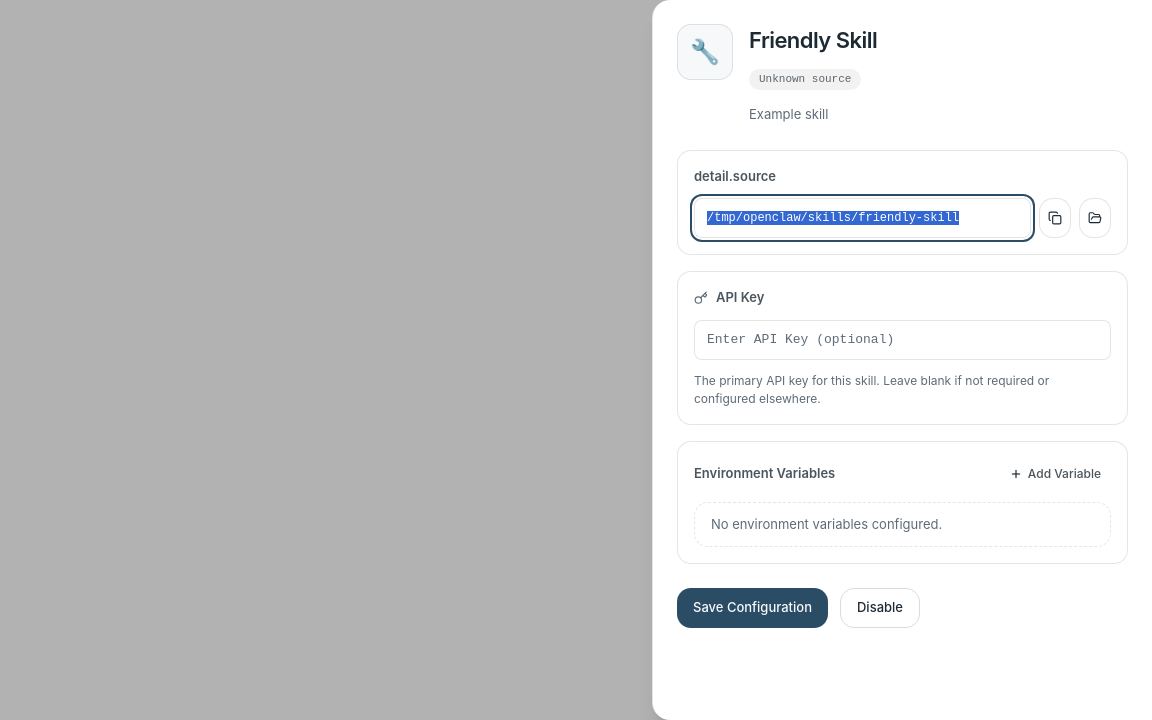
Scenario: SkillDetailDialog uninstall › blocks saving when an added environment variable row is left blank
Step 1. Click the button "Add Variable" → [1055, 474], box [1000,458,1111,490]
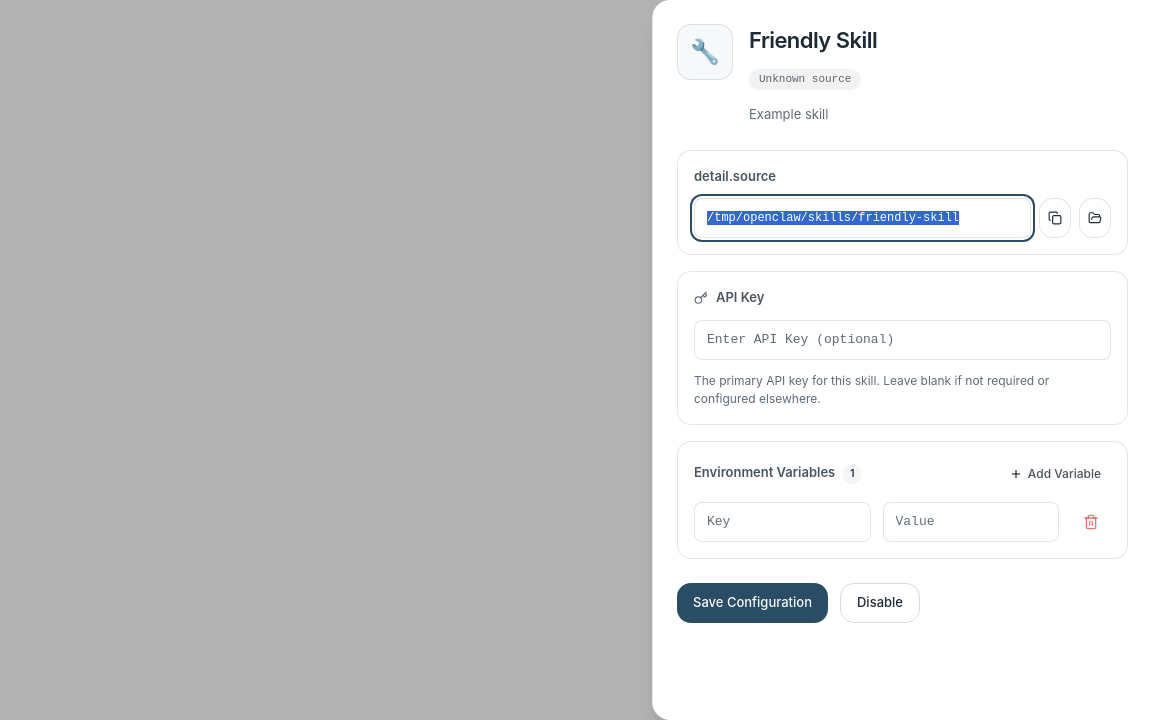
Step 2. Click the button "Save Configuration" → [752, 602], box [677,582,828,622]
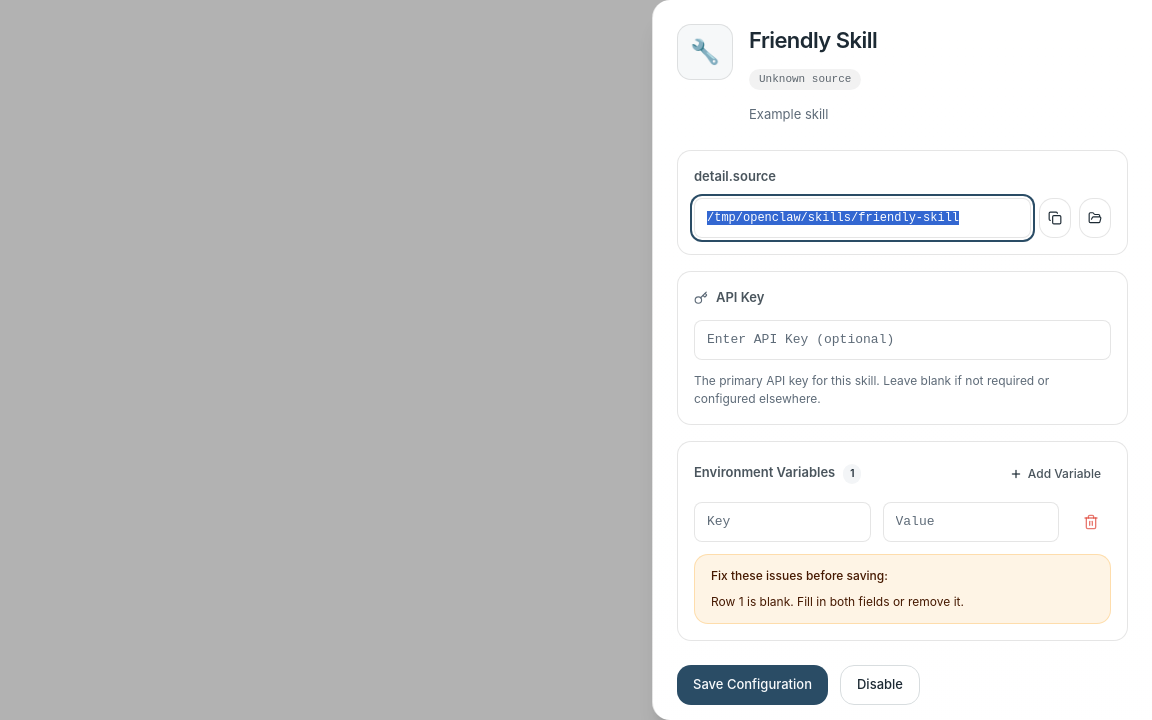
Result: the text "Fix these issues before saving:" is shown at [711,568,888,582]
Result: the text "Row 1 is blank. Fill in both fields or remove it." is shown at [711,594,964,608]
